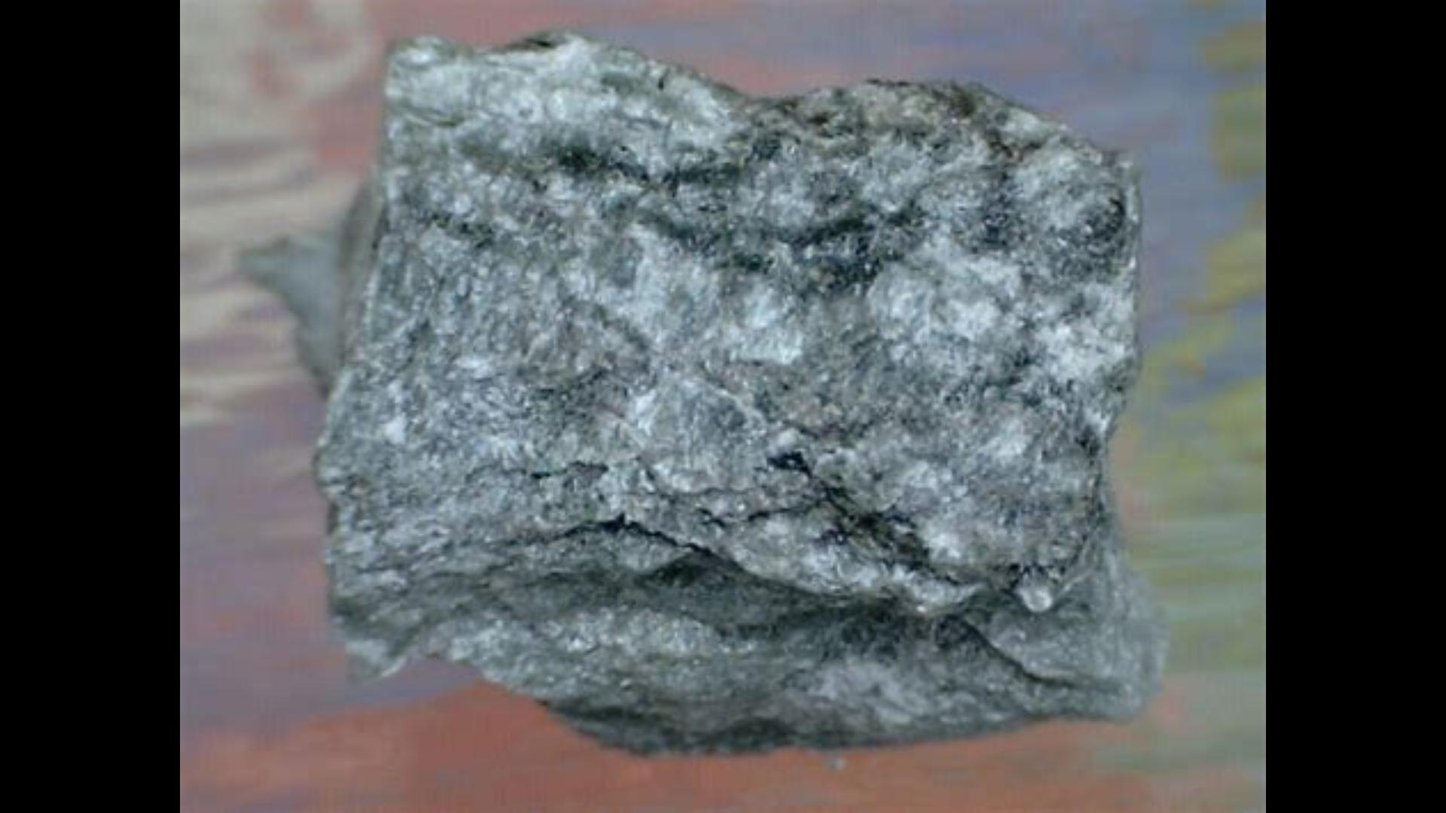rock: (320, 34, 1161, 742)
